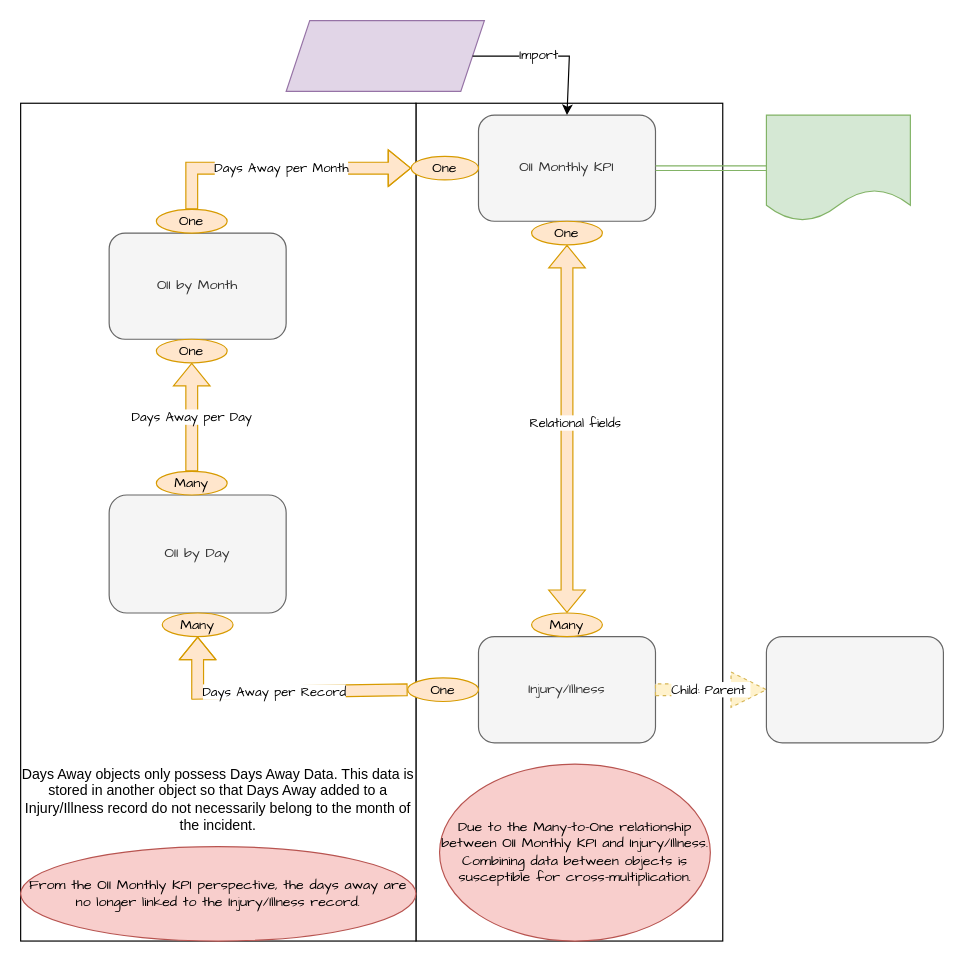
Image size: 964x962. Some labels were removed from this diagram. The box of each missing label's shape, as (x1, y1, x2, y2) in pixels:
HFM Hours Worked: (285, 19, 484, 91)
KOR TRIR Report / Dashboard: (765, 114, 910, 221)
SK Event: (765, 635, 943, 743)
